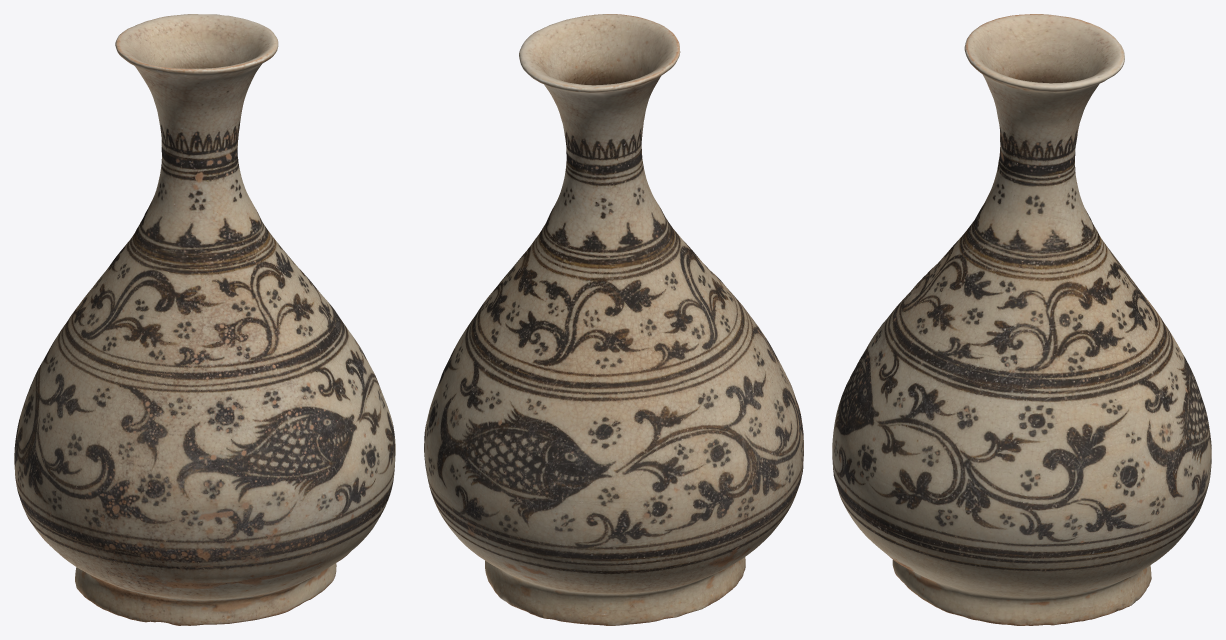
3 views of the same model, side by side, from view 1: azimuth 30°, elevation 25°; view 2: azimuth 150°, elevation 25°; view 3: azimuth 270°, elevation 25° (orthographic).
Parts seen in each view (by area): view 1: 190521_mia337_127611_100_64Kmesh_1; view 2: 190521_mia337_127611_100_64Kmesh_1; view 3: 190521_mia337_127611_100_64Kmesh_1.
Part boxes in pixels (box(x1,y1,x2,y2)): 190521_mia337_127611_100_64Kmesh_1: box(14, 14, 395, 625); 190521_mia337_127611_100_64Kmesh_1: box(424, 14, 803, 625); 190521_mia337_127611_100_64Kmesh_1: box(832, 14, 1211, 625).
Size of the model in its own units: 24.74 by 38.37 by 24.69.
1 material, 1 textured.
